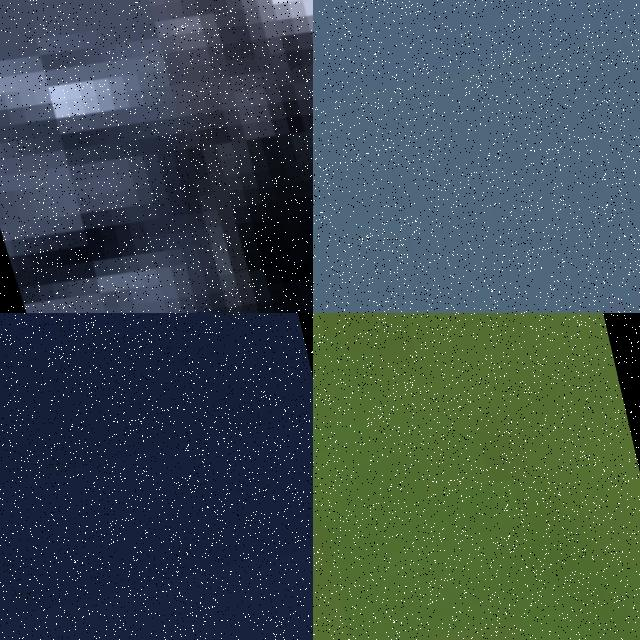drone: (0, 0, 313, 313)
